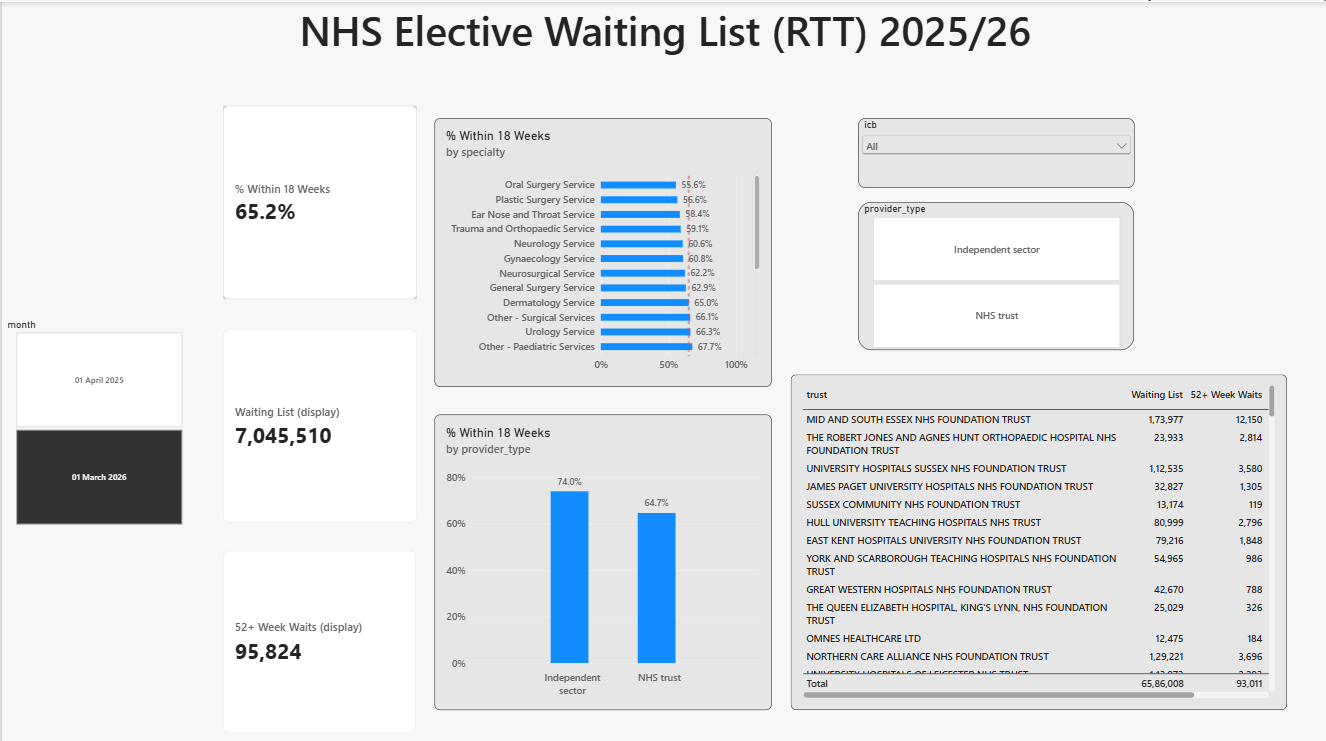

Layout of this report page (visuals, bound fields, positions):
{"tool":"powerbi","page":{"name":"Page 1","canvas":[1920,1080],"ordinal":0},"visuals":[{"type":"slicer","fields":{"Values":["rtt.month"]},"box":[0,456.9,280,300],"z":0},{"type":"cardVisual","fields":{"Data":["rtt.% Within 18 Weeks"]},"box":[321.1,150.3,280,280],"z":1},{"type":"cardVisual","fields":{"Data":["rtt.Waiting List (display)"]},"box":[321.1,473.4,280,280],"z":2},{"type":"cardVisual","fields":{"Data":["rtt.52+ Week Waits (display)"]},"box":[321.1,794.5,279.9,263.5],"z":3},{"type":"clusteredBarChart","fields":{"Category":["rtt.specialty"],"Y":["rtt.% Within 18 Weeks"]},"box":[625.7,168.8,487.8,389],"z":4},{"type":"clusteredColumnChart","fields":{"Category":["rtt.provider_type"],"Y":["rtt.% Within 18 Weeks"]},"box":[625.7,596.9,487.8,428.1],"z":5},{"type":"tableEx","fields":{"Values":["rtt.trust","rtt.Waiting List","rtt.52+ Week Waits","rtt.% Within 18 Weeks"]},"box":[1142.4,539.3,718.4,485.8],"z":6},{"type":"slicer","fields":{"Values":["rtt.icb"]},"box":[1239.1,168.8,400,101],"z":7},{"type":"slicer","fields":{"Values":["rtt.provider_type"]},"box":[1239.1,290.2,399.3,214.1],"z":8},{"type":"textbox","box":[0,0,1920.4,135.8],"z":9}]}

Visuals, with their boxes in screenshot pixels (x1, y1, x2, y2), scaled from the page's 1920x1080 canvas onto the 1326x741 screenshot:
slicer - rtt.month: 0, 313, 193, 519
cardVisual - rtt.% Within 18 Weeks: 222, 103, 415, 295
cardVisual - rtt.Waiting List (display): 222, 325, 415, 517
cardVisual - rtt.52+ Week Waits (display): 222, 545, 415, 726
clusteredBarChart - rtt.specialty x rtt.% Within 18 Weeks: 432, 116, 769, 383
clusteredColumnChart - rtt.provider_type x rtt.% Within 18 Weeks: 432, 410, 769, 703
tableEx - rtt.trust x rtt.Waiting List: 789, 370, 1285, 703
slicer - rtt.icb: 856, 116, 1132, 185
slicer - rtt.provider_type: 856, 199, 1132, 346
textbox: 0, 0, 1325, 93
